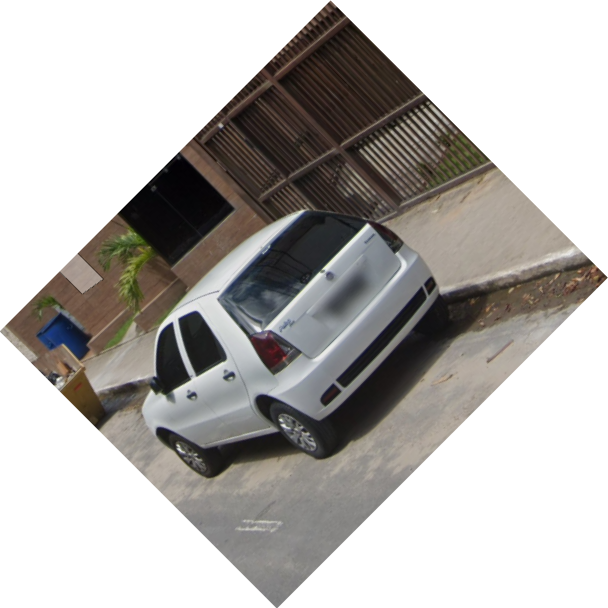car: (137, 207, 456, 483)
